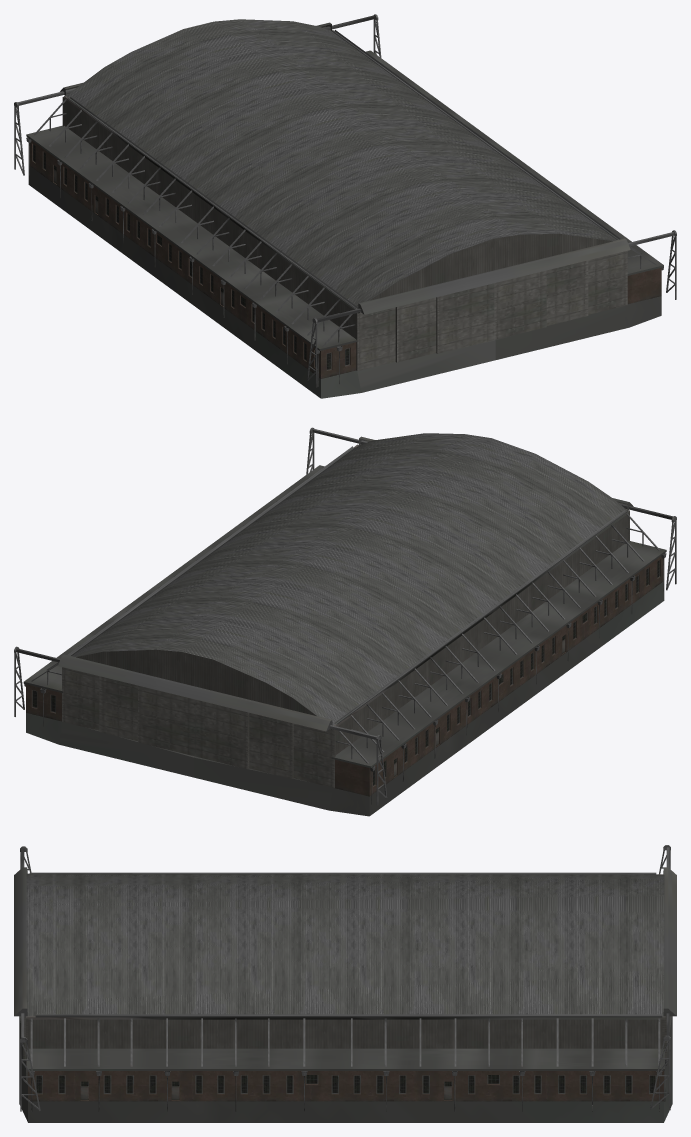
File: hangar-j.lod1.glb
3 renders of one model, top to bottom at view 1: azimuth 30°, elevation 25°; view 2: azimuth 150°, elevation 25°; view 3: azimuth 270°, elevation 25°, orthographic. The views are drawn at different scales.
Visible parts, largest first — view 1: Object_2; view 2: Object_2; view 3: Object_2.
Part boxes in pixels (left/top/right/bottom): Object_2: left=14, top=14, right=676, bottom=398; Object_2: left=14, top=427, right=676, bottom=816; Object_2: left=14, top=845, right=676, bottom=1122.
Bounding box in the file's own units: 61.89 × 19.3 × 89.88.
1 material, 1 textured.
